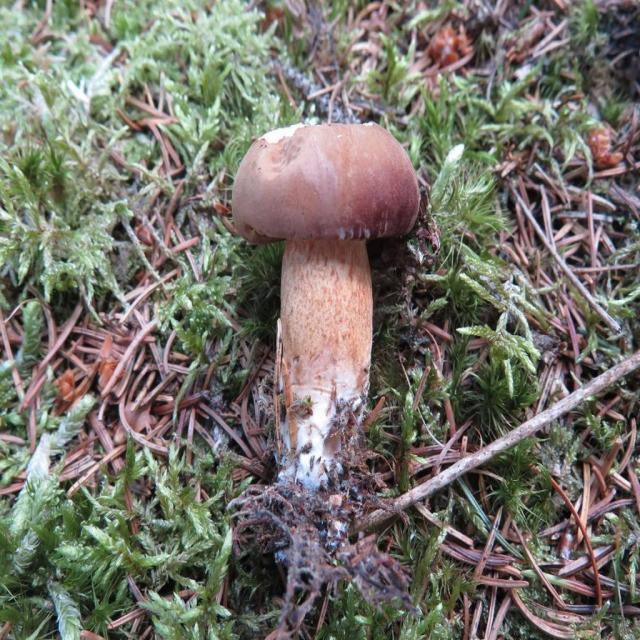Boletus: (235, 123, 420, 516)
